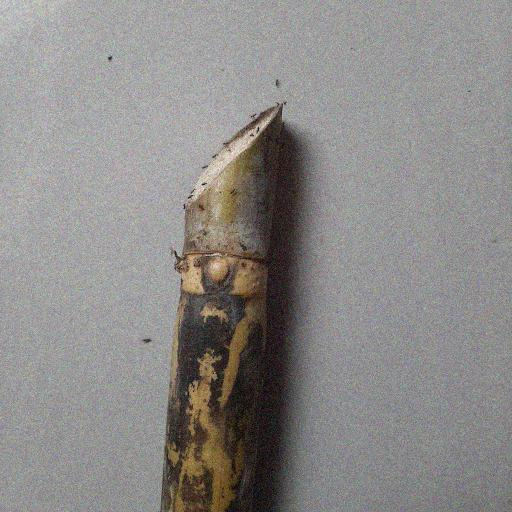Bud: (203, 256, 231, 289)
